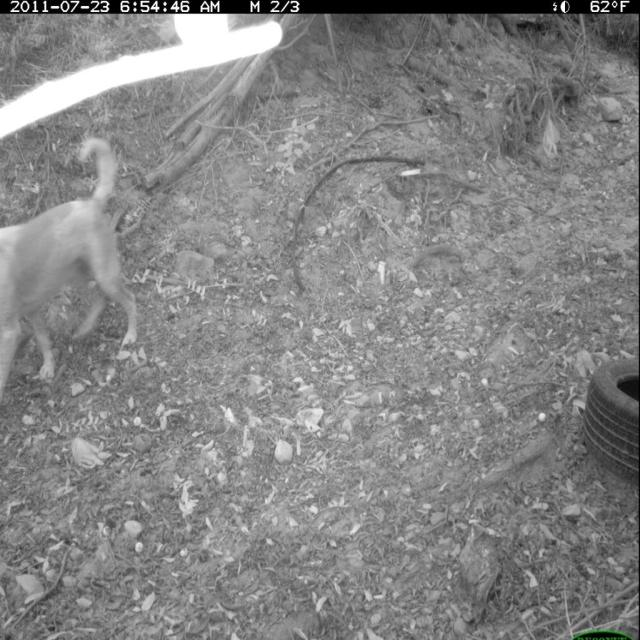dog: (2, 129, 146, 399)
